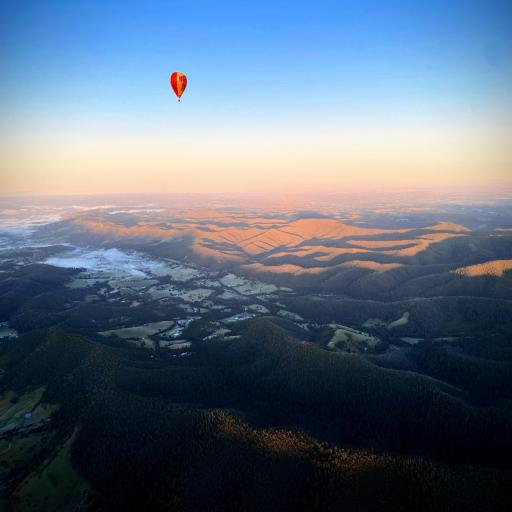hot air ballon: (169, 68, 189, 102)
